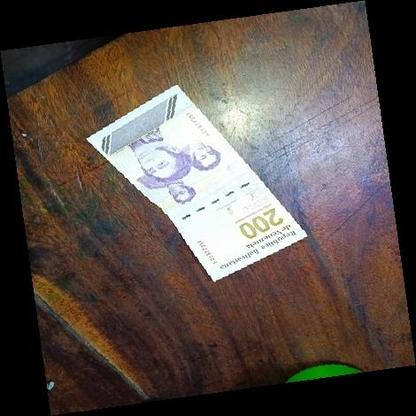two_hundred-front-vef: (85, 83, 307, 282)
